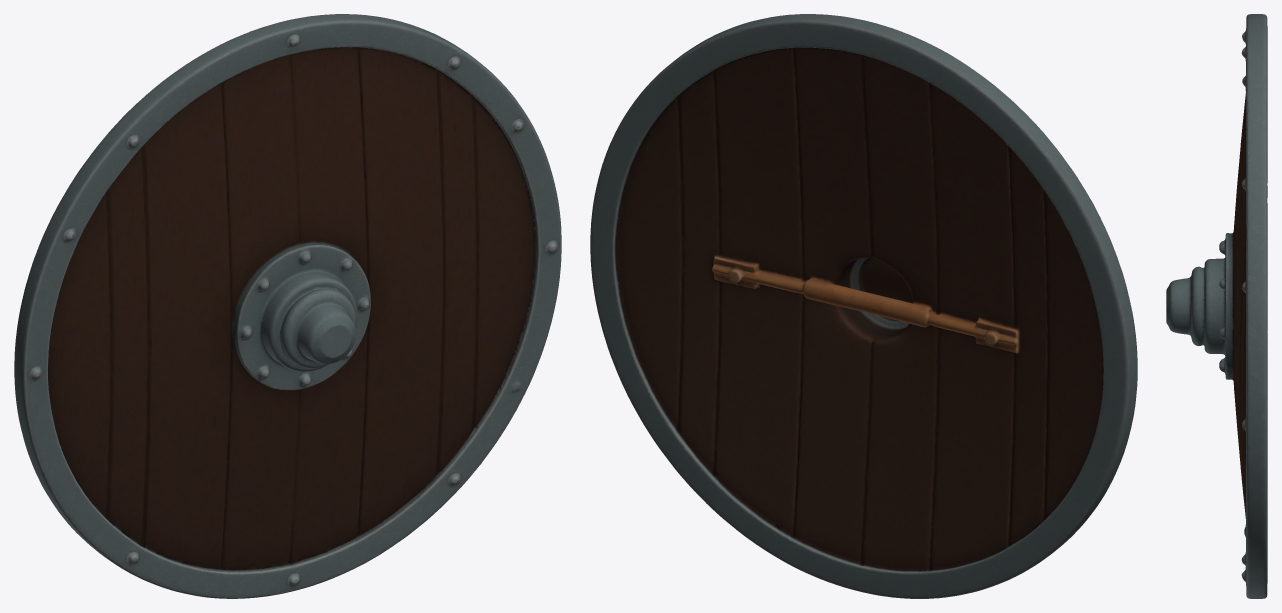
File: shield.glb
3 views of the same model, side by side, from view 1: azimuth 30°, elevation 25°; view 2: azimuth 150°, elevation 25°; view 3: azimuth 270°, elevation 25° (orthographic). The views are drawn at different scales.
Size of the model in its own units: 1.9 by 1.9 by 0.3283.
Materials: 1 (1 with a texture image).
